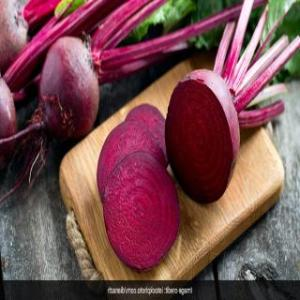beet: (166, 57, 248, 199), (108, 104, 178, 270), (37, 34, 101, 140)
